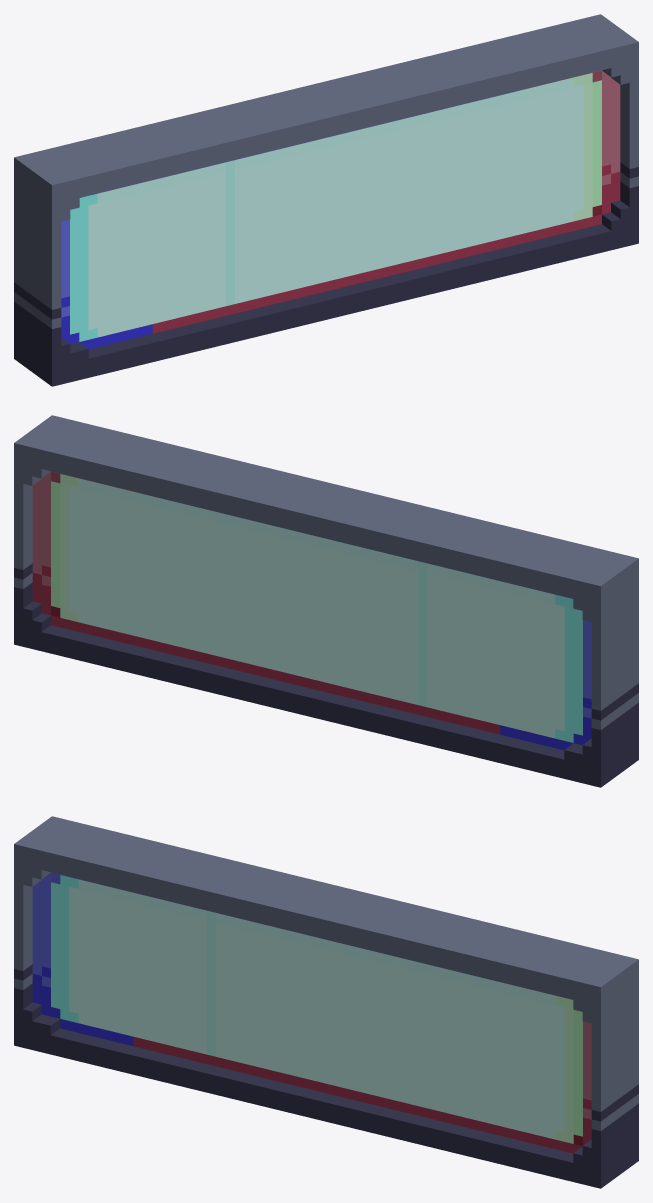
Rendered from telsiz_prop.fbx.
3 renders of one model, top to bottom at view 1: azimuth 30°, elevation 25°; view 2: azimuth 150°, elevation 25°; view 3: azimuth 330°, elevation 25°, orthographic.
Parts seen in each view (by area): view 1: generated; view 2: generated; view 3: generated.
Part boxes in pixels (<box>): generated: <box>14,14,638,386</box>; generated: <box>14,415,638,787</box>; generated: <box>14,816,638,1188</box>.
Bounding box in the file's own units: 640 × 210 × 72.
